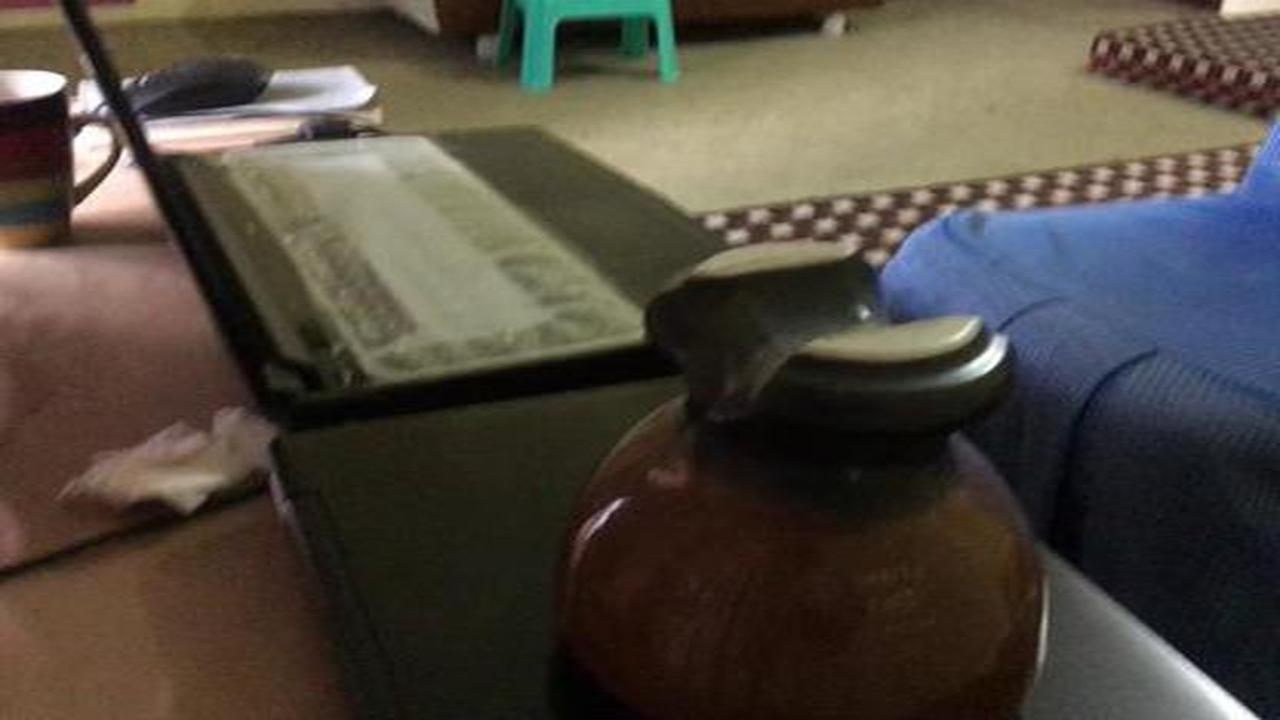insulator_pin: (548, 231, 1059, 720)
